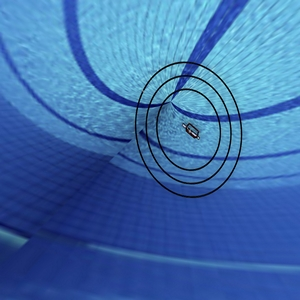circle: (116, 45, 251, 217)
submarine: (178, 110, 207, 151)
